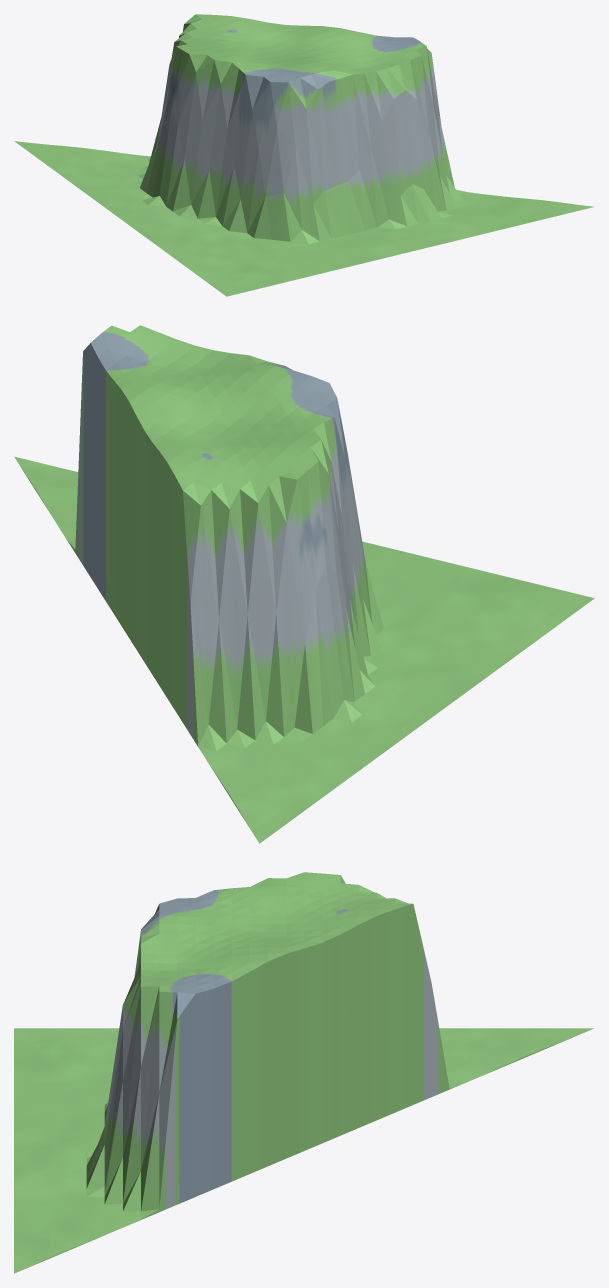
The model's file is Grass_RockyMountains_08_NW.obj.
3 renders of one model, top to bottom at view 1: azimuth 30°, elevation 25°; view 2: azimuth 150°, elevation 25°; view 3: azimuth 270°, elevation 25°, orthographic. The views are drawn at different scales.
Size of the model in its own units: 10 by 3.89 by 10.
1 material, 1 textured.
